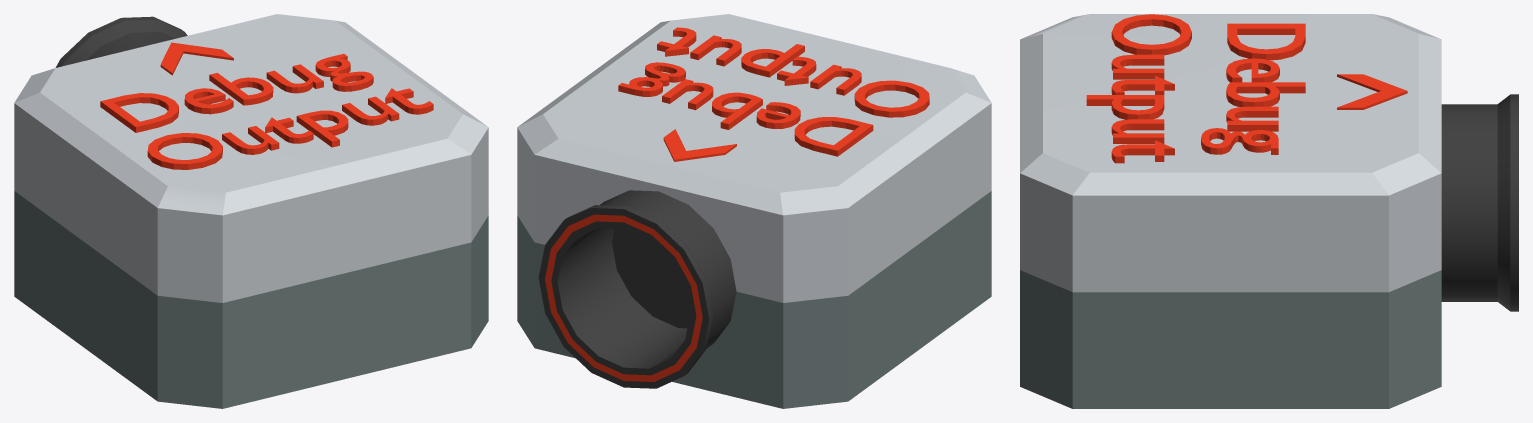
File: DebugOutput.fbx
3 renders of one model, left to right at view 1: azimuth 30°, elevation 25°; view 2: azimuth 150°, elevation 25°; view 3: azimuth 270°, elevation 25°, orthographic. The views are drawn at different scales.
Visible parts, largest first — view 1: DebugBlock_Output; view 2: DebugBlock_Output; view 3: DebugBlock_Output.
Part boxes in pixels (bbox=[...]): DebugBlock_Output: bbox=[14, 14, 488, 408]; DebugBlock_Output: bbox=[517, 14, 991, 408]; DebugBlock_Output: bbox=[1020, 14, 1518, 408].
Bounding box in the file's own units: 73.17 × 44.62 × 86.58.
